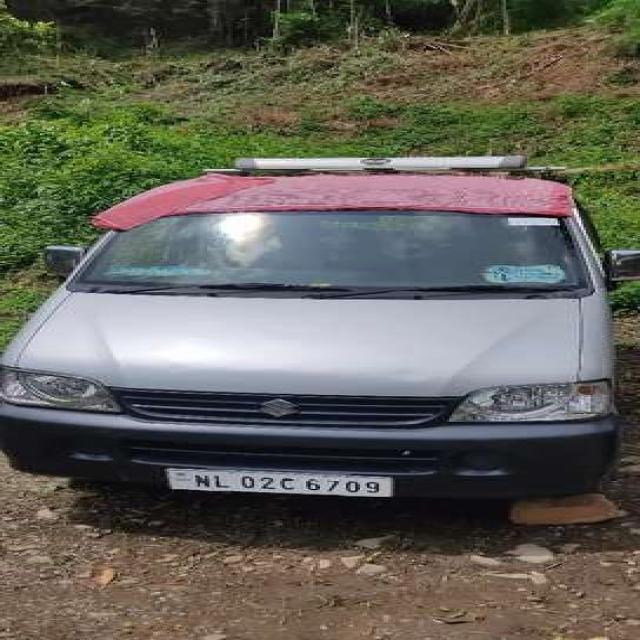plate: (160, 466, 396, 500)
